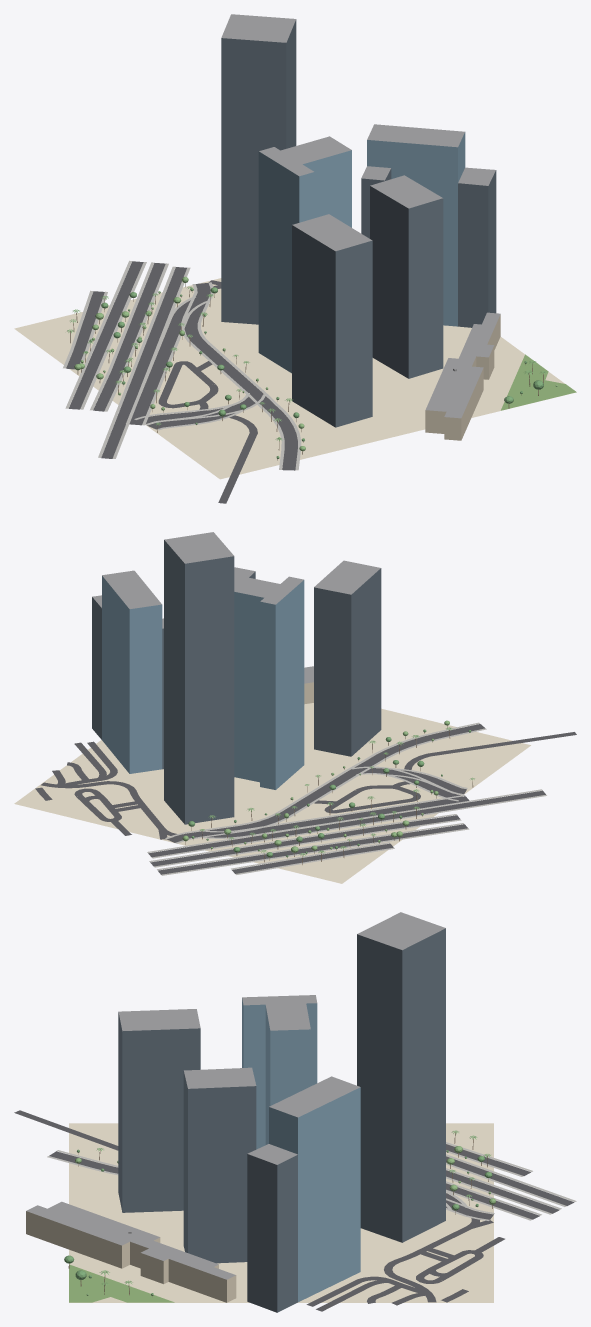
Rendered from tile_-5_3.glb.
The picture shows the model from 3 angles, top to bottom: view 1: azimuth 30°, elevation 25°; view 2: azimuth 150°, elevation 25°; view 3: azimuth 270°, elevation 25°; orthographic projection. The views are drawn at different scales.
Visible parts, largest first — view 1: buildings_glass_dark, nature_ground, buildings_glass_blue, roads_asphalt, buildings_roof, roads_sidewalk, buildings_sandstone, nature_grass, nature_foliage_a, nature_palm_leaf, nature_foliage_b; view 2: buildings_glass_dark, nature_ground, buildings_glass_blue, roads_asphalt, roads_sidewalk, buildings_roof, nature_foliage_a, nature_foliage_b, nature_palm_leaf, nature_trunk; view 3: buildings_glass_dark, nature_ground, buildings_glass_blue, buildings_roof, roads_asphalt, buildings_sandstone, roads_sidewalk, nature_grass.
Boxes of the visible parts, x1,y1,x2,y2 form: buildings_glass_dark: (221,19,496,427); nature_ground: (14,278,576,479); buildings_glass_blue: (258,132,465,373); roads_asphalt: (66,261,297,503); buildings_roof: (221,14,500,418); roads_sidewalk: (63,260,301,470); buildings_sandstone: (425,314,500,440); nature_grass: (501,354,576,410); nature_foliage_a: (85,287,543,458); nature_palm_leaf: (67,286,546,441); nature_foliage_b: (74,276,557,451); buildings_glass_dark: (92,540,381,824); nature_ground: (14,703,530,883); buildings_glass_blue: (102,576,304,789); roads_asphalt: (35,724,576,874); roads_sidewalk: (147,722,546,875); buildings_roof: (92,532,380,683); nature_foliage_a: (188,729,471,857); nature_foliage_b: (182,720,449,852); nature_palm_leaf: (200,727,474,856); nature_trunk: (185,726,473,864); buildings_glass_dark: (118,928,445,1312); nature_ground: (69,1123,493,1302); buildings_glass_blue: (242,998,360,1302); buildings_roof: (26,912,445,1279); roads_asphalt: (14,1110,574,1311); buildings_sandstone: (26,1211,236,1302); roads_sidewalk: (47,1142,576,1220); nature_grass: (69,1264,174,1302).
Bounding box in the file's own units: 313 × 190 × 331.
